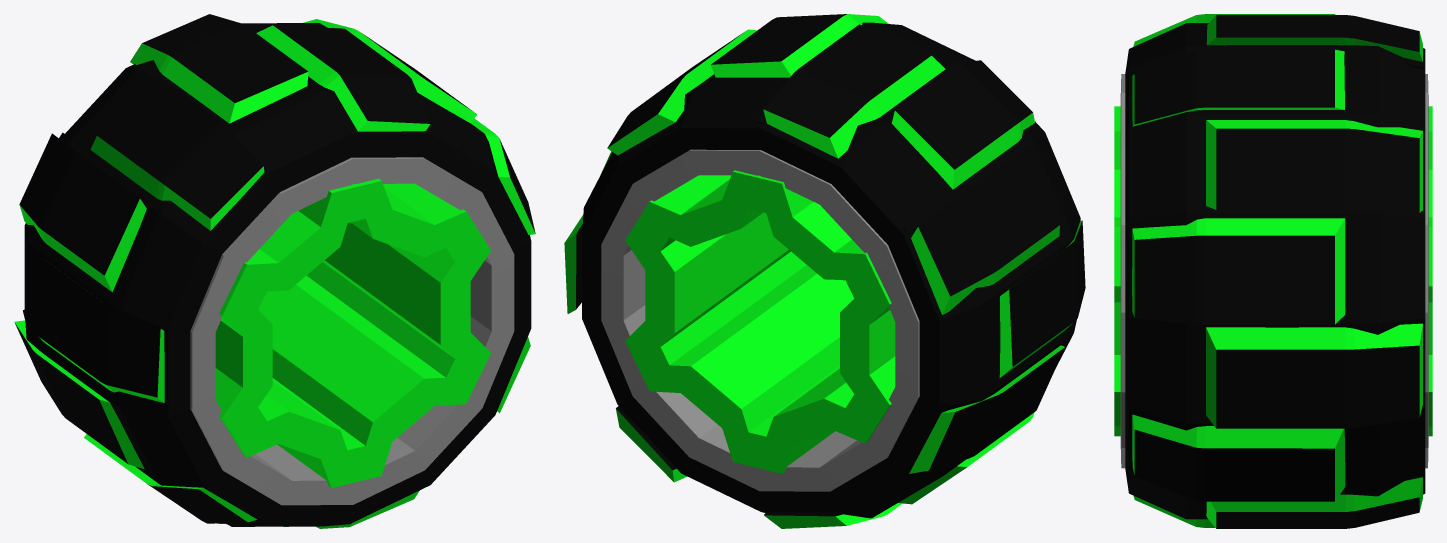
Rendered from wheel46.fbx.
The picture shows the model from 3 angles, left to right: view 1: azimuth 30°, elevation 25°; view 2: azimuth 150°, elevation 25°; view 3: azimuth 270°, elevation 25°; orthographic projection. The views are drawn at different scales.
Parts seen in each view (by area): view 1: lanot_wheel_45_L; view 2: lanot_wheel_45_L; view 3: lanot_wheel_45_L.
Boxes of the visible parts, x1,y1,x2,y2 form: lanot_wheel_45_L: (14, 14, 535, 528); lanot_wheel_45_L: (564, 14, 1085, 528); lanot_wheel_45_L: (1114, 14, 1432, 528).
Size of the model in its own units: 154 by 156 by 96.27.
